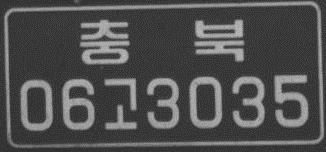0: (186, 75, 225, 130), (18, 77, 54, 131)
3: (229, 74, 266, 130), (145, 76, 181, 129)
5: (271, 71, 312, 128)
6: (61, 77, 97, 130)
고: (101, 75, 140, 131)
충북_D: (78, 17, 247, 66)
